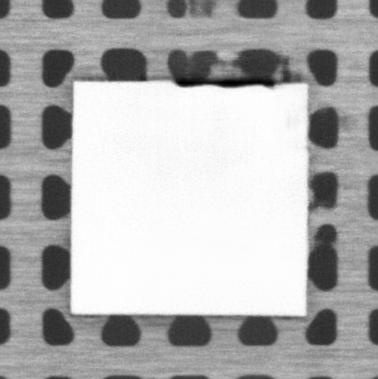DIE_BROKEN: (171, 75, 277, 90)
